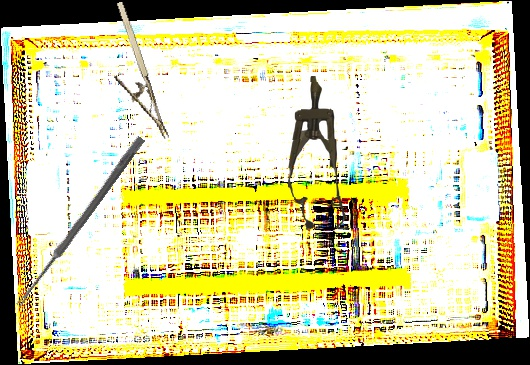Needle Holder: (93, 0, 170, 148)
Speculum: (284, 75, 349, 232)
Surgical Spoon: (14, 134, 146, 310)
